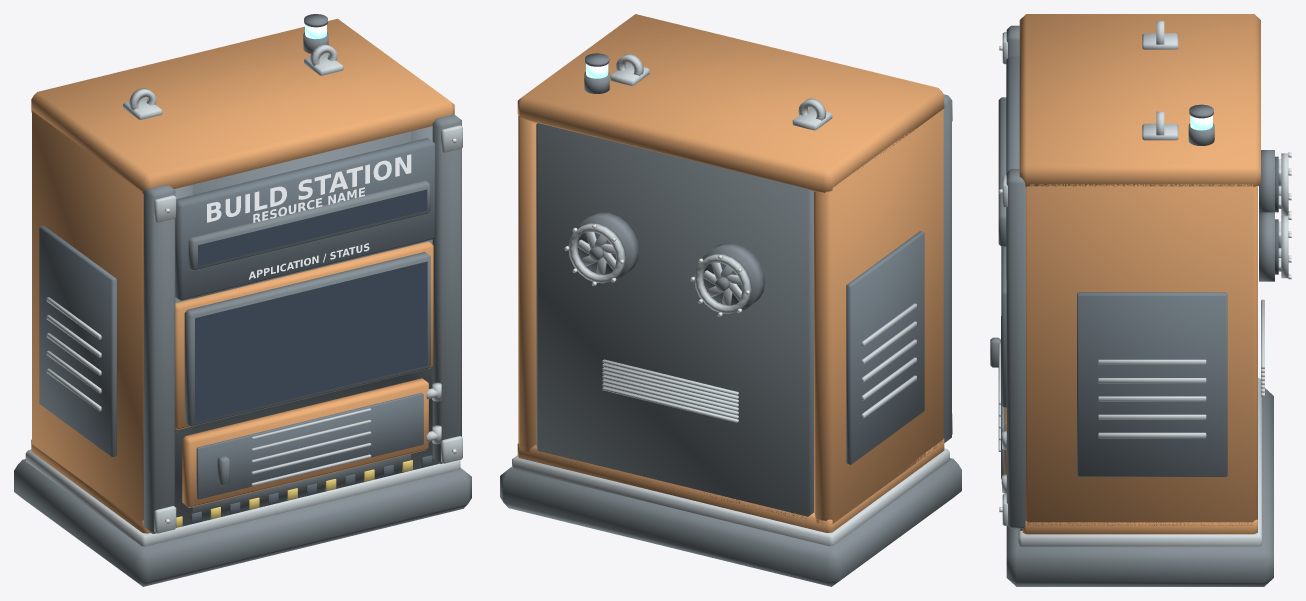
Rendered from build_station_standard.glb.
3 views of the same model, side by side, from view 1: azimuth 30°, elevation 25°; view 2: azimuth 150°, elevation 25°; view 3: azimuth 270°, elevation 25° (orthographic). The views are drawn at different scales.
Visible parts, largest first — view 1: Roof_orange, LiveViewSurface_glass, SideWall_orange, CornerPost_frame, Skid_frame, FrontHeader_graphite, SideServicePanel_graphite, DoorMoving_Inset_graphite, DoorMoving_Panel_orange, SkidDeck_steel, LiveViewSurfaceFrame_frame, ResourceNameSurface_glass (+15 smaller); view 2: BackWall_frame, Roof_orange, SideWall_orange, Skid_frame, SideServicePanel_graphite, SkidDeck_steel, KickPlate_orange, RearFan_steel, RearVent_steel, CornerPost_frame, RearFan_frame, SideLouver_steel (+3 smaller); view 3: SideWall_orange, Roof_orange, SideServicePanel_graphite, Skid_frame, CornerPost_frame, SkidDeck_steel, SideLouver_steel, KickPlate_orange, RearFan_frame, FrontHeader_graphite, RearFan_steel, ResourceNameSurfaceFrame_frame (+6 smaller).
Boxes of the visible parts, bbox=[...] form: Roof_orange: bbox=[31, 18, 454, 193]; LiveViewSurface_glass: bbox=[195, 261, 427, 422]; SideWall_orange: bbox=[32, 111, 143, 524]; CornerPost_frame: bbox=[143, 114, 461, 533]; Skid_frame: bbox=[14, 459, 471, 586]; FrontHeader_graphite: bbox=[175, 138, 435, 300]; SideServicePanel_graphite: bbox=[39, 225, 116, 457]; DoorMoving_Inset_graphite: bbox=[196, 393, 423, 499]; DoorMoving_Panel_orange: bbox=[182, 378, 428, 507]; SkidDeck_steel: bbox=[25, 449, 460, 546]; LiveViewSurfaceFrame_frame: bbox=[184, 252, 430, 426]; ResourceNameSurface_glass: bbox=[198, 189, 427, 266]; BackWall_frame: bbox=[536, 123, 813, 519]; Roof_orange: bbox=[517, 14, 944, 192]; SideWall_orange: bbox=[518, 109, 943, 523]; Skid_frame: bbox=[500, 458, 961, 586]; SideServicePanel_graphite: bbox=[846, 231, 924, 464]; SkidDeck_steel: bbox=[512, 448, 949, 546]; KickPlate_orange: bbox=[517, 438, 944, 532]; RearFan_steel: bbox=[568, 223, 751, 313]; RearVent_steel: bbox=[602, 359, 738, 422]; CornerPost_frame: bbox=[943, 94, 951, 442]; RearFan_frame: bbox=[576, 212, 765, 312]; SideLouver_steel: bbox=[861, 303, 916, 418]; SideWall_orange: bbox=[1026, 184, 1257, 525]; Roof_orange: bbox=[1019, 14, 1260, 186]; SideServicePanel_graphite: bbox=[1077, 292, 1227, 476]; Skid_frame: bbox=[1006, 388, 1273, 586]; CornerPost_frame: bbox=[1006, 25, 1025, 528]; SkidDeck_steel: bbox=[1018, 378, 1261, 546]; SideLouver_steel: bbox=[1098, 359, 1206, 438]; KickPlate_orange: bbox=[1022, 519, 1257, 534]; RearFan_frame: bbox=[1259, 150, 1274, 281]; FrontHeader_graphite: bbox=[1006, 56, 1019, 279]; RearFan_steel: bbox=[1278, 153, 1288, 278]; ResourceNameSurfaceFrame_frame: bbox=[998, 97, 1006, 246].
Size of the model in its own units: 2 by 2.48 by 1.51.
